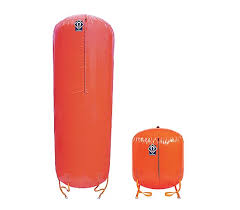buoy: (133, 128, 183, 189)
